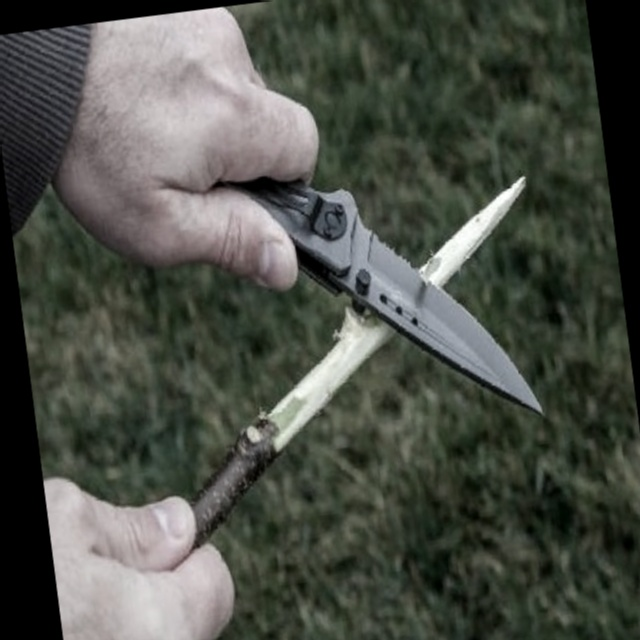Sharp-Object: (207, 151, 544, 455)
